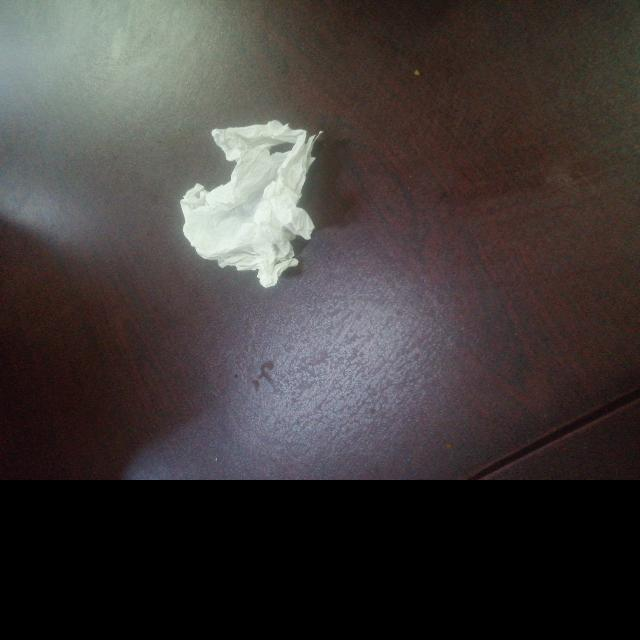kitchen paper: (179, 116, 329, 292)
